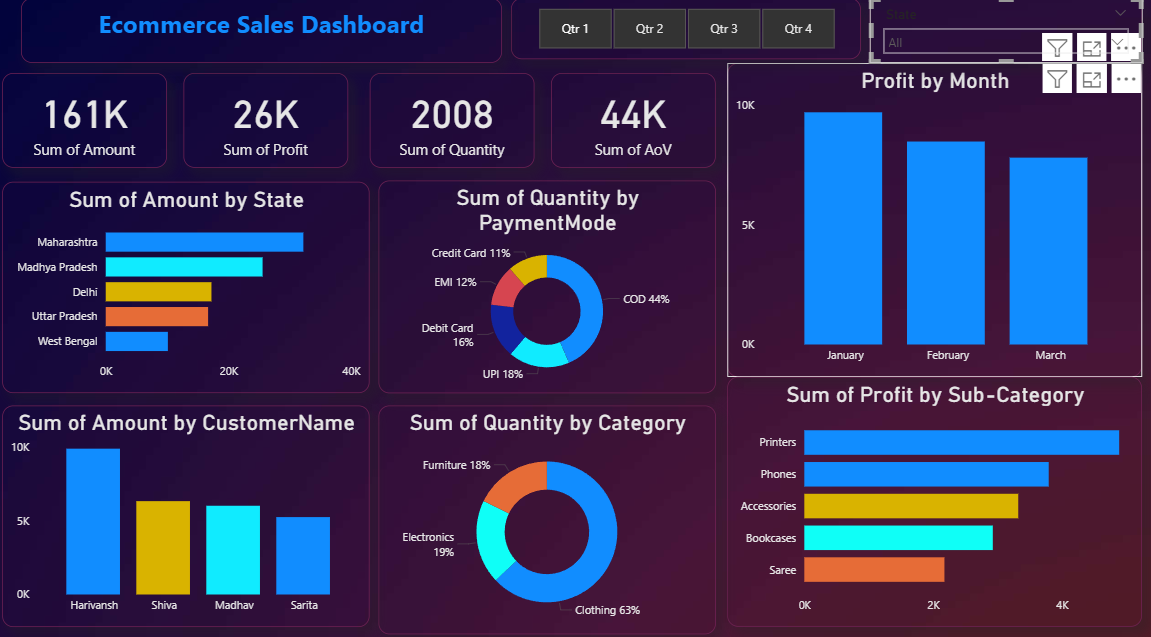

What the dashboard file says about the page in this screenshot:
{"tool":"powerbi","page":{"name":"Page 1","canvas":[1280,720],"ordinal":0},"visuals":[{"type":"columnChart","title":"Profit by Month","fields":{"Category":["Orders.Order Date.Variation.Date Hierarchy.Month"],"Y":["Sum(Details.Profit)"]},"box":[813.7,82.3,455.6,344.4],"z":0},{"type":"barChart","fields":{"Category":["Details.Sub-Category"],"Y":["Sum(Details.Profit)"]},"box":[813.7,426.8,455.6,274.4],"z":1000},{"type":"donutChart","fields":{"Category":["Details.Category"],"Y":["Sum(Details.Quantity)"]},"box":[430.9,458.3,370.5,251.1],"z":2000},{"type":"donutChart","fields":{"Category":["Details.PaymentMode"],"Y":["Sum(Details.Quantity)"]},"box":[430.9,211.3,370.5,233.3],"z":3000},{"type":"card","title":"Amount","fields":{"Values":["Sum(Details.Amount)"]},"box":[17.8,93.3,181.1,104.3],"z":4000},{"type":"card","title":"Amount","fields":{"Values":["Sum(Details.AoV)"]},"box":[620.2,93.3,181.1,104.3],"z":5000},{"type":"card","title":"Amount","fields":{"Values":["Sum(Details.Quantity)"]},"box":[421.3,93.3,181.1,104.3],"z":6000},{"type":"card","title":"Amount","fields":{"Values":["Sum(Details.Profit)"]},"box":[216.8,93.3,181.1,104.3],"z":7000},{"type":"clusteredBarChart","fields":{"Category":["Orders.State"],"Y":["Sum(Details.Amount)"]},"box":[17.8,212.7,403.4,231.9],"z":8000},{"type":"columnChart","fields":{"Category":["Orders.CustomerName"],"Y":["Sum(Details.Amount)"]},"box":[17.8,458.3,403.4,242.9],"z":9000},{"type":"slicer","fields":{"Values":["Orders.Order Date.Variation.Date Hierarchy.Quarter"]},"box":[576.3,11,384.2,67.2],"z":10000},{"type":"slicer","fields":{"Values":["Orders.State"]},"box":[970.2,11,299.1,71.4],"z":11000},{"type":"textbox","box":[38.4,11,528.3,71.4],"z":12000}]}

Visuals, with their boxes in screenshot pixels (x1, y1, x2, y2), scaled from the page's 1280x720 canvas onto the 1151x637 screenshot:
"Profit by Month" columnChart: locate(732, 73, 1141, 378)
barChart - Details.Sub-Category x Sum(Details.Profit): locate(732, 378, 1141, 620)
donutChart - Details.Category x Sum(Details.Quantity): locate(387, 405, 721, 628)
donutChart - Details.PaymentMode x Sum(Details.Quantity): locate(387, 187, 721, 393)
"Amount" card: locate(16, 83, 179, 175)
"Amount" card: locate(558, 83, 721, 175)
"Amount" card: locate(379, 83, 542, 175)
"Amount" card: locate(195, 83, 358, 175)
clusteredBarChart - Orders.State x Sum(Details.Amount): locate(16, 188, 379, 393)
columnChart - Orders.CustomerName x Sum(Details.Amount): locate(16, 405, 379, 620)
slicer - Orders.Order Date.Variation.Date Hierarchy.Quarter: locate(518, 10, 864, 69)
slicer - Orders.State: locate(872, 10, 1141, 73)
textbox: locate(35, 10, 510, 73)
